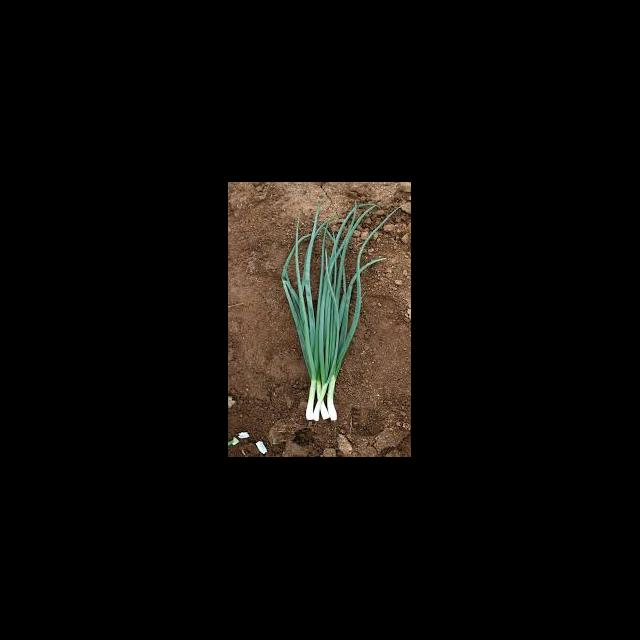green_onion: (284, 204, 398, 422)
